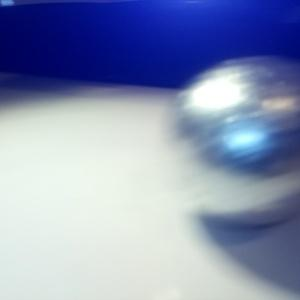alive_ball: (168, 57, 300, 227)
